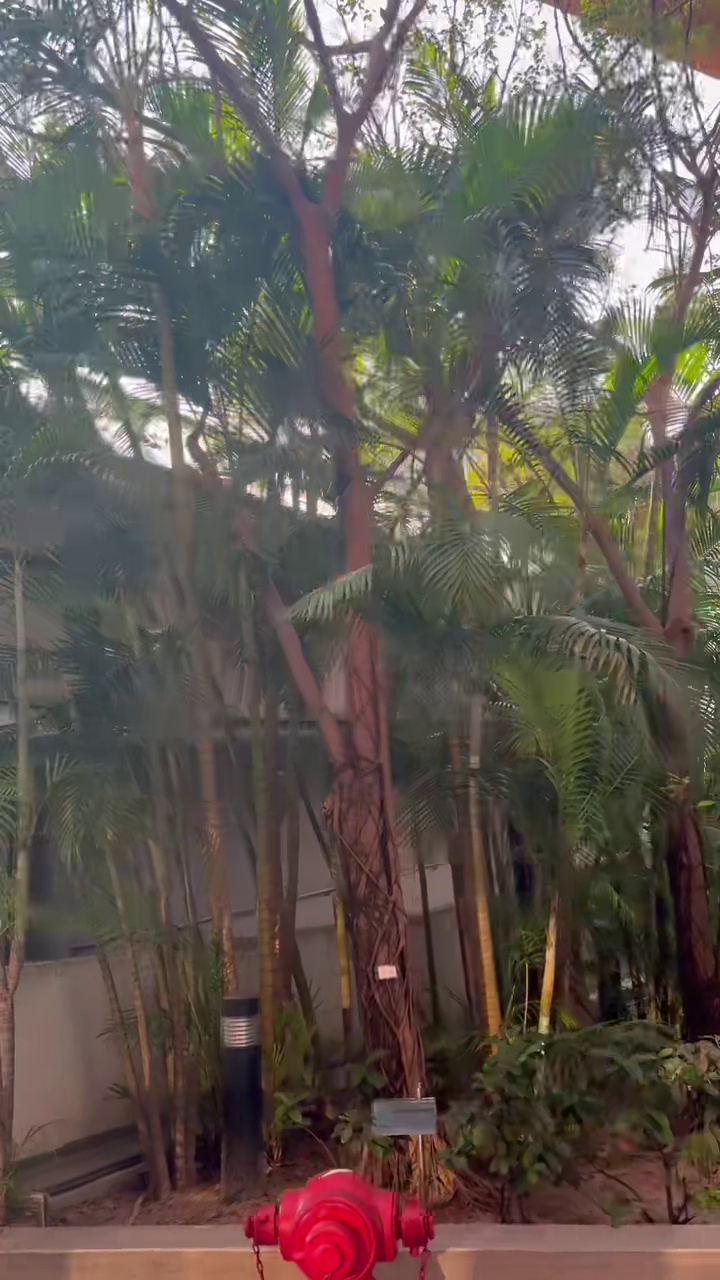Ficus benjamina: (168, 0, 424, 1095)
